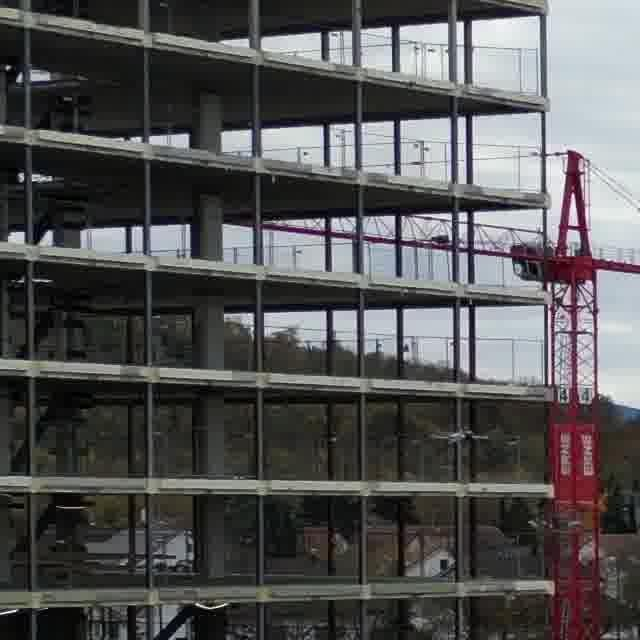Drohne: (444, 429, 471, 440)
